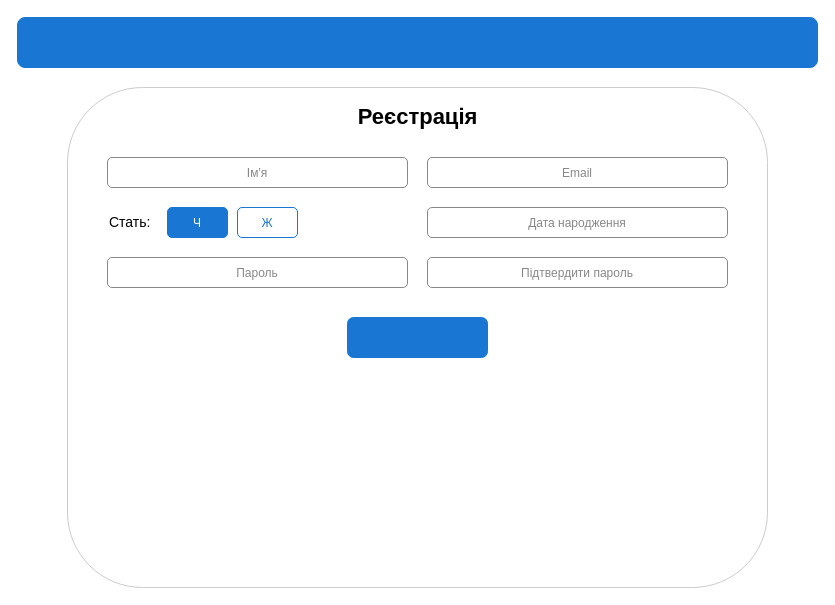
Some shapes in this 835 by 605 pixel diagram are drawn without their labels. Here are the shapes that lost their labels. From the top down, the centre of each, then its label:
At (417,42): "Home About To-Do Login Register".
At (417,337): "ЗАРЕЄСТРУВАТИСЯ".
